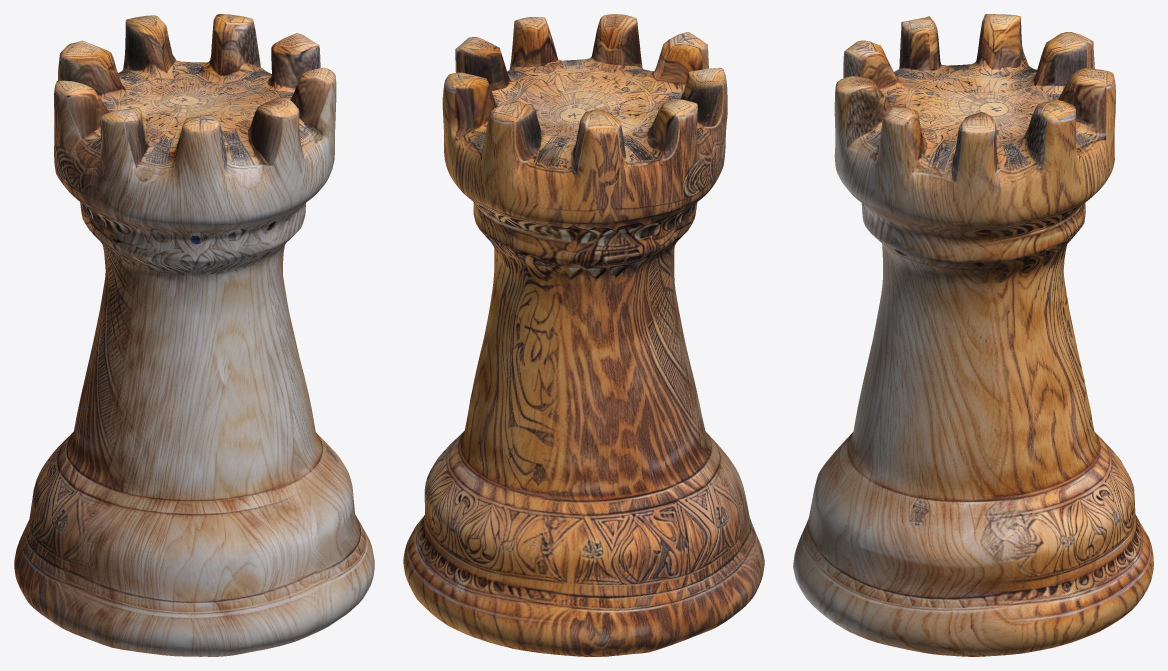
The model's file is rook.glb.
3 renders of one model, left to right at view 1: azimuth 30°, elevation 25°; view 2: azimuth 150°, elevation 25°; view 3: azimuth 270°, elevation 25°, orthographic.
Visible parts, largest first — view 1: mesh_0; view 2: mesh_0; view 3: mesh_0.
Part boxes in pixels (<box>): mesh_0: <box>14,14,374,656</box>; mesh_0: <box>403,14,764,656</box>; mesh_0: <box>793,14,1153,656</box>.
Bounding box in the file's own units: 0.7312 × 1.2 × 0.7327.
1 material, 1 textured.
